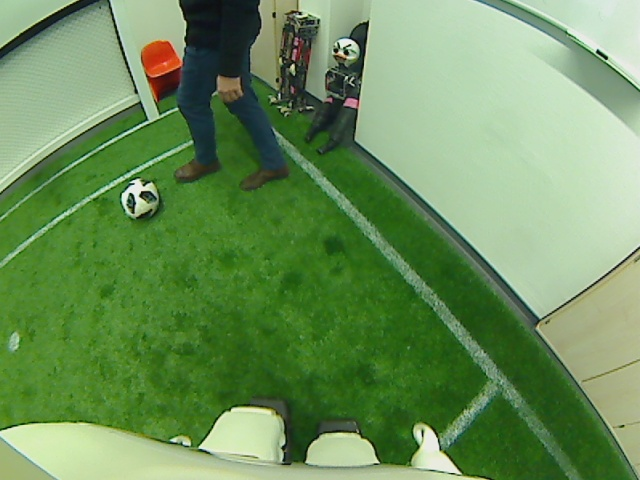ball: (117, 175, 162, 221)
